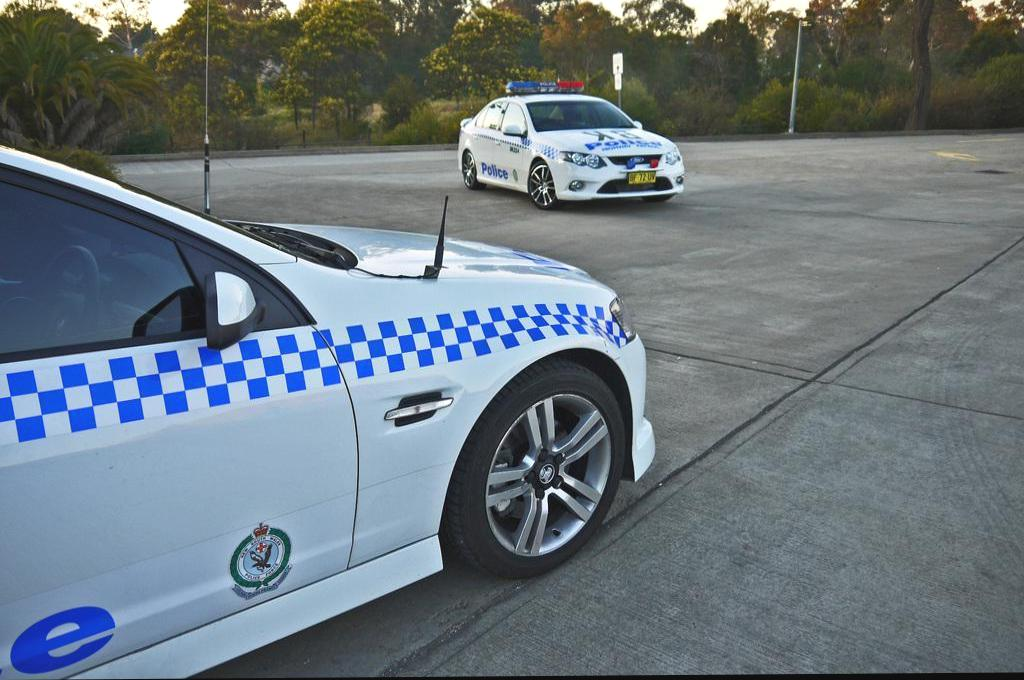License_Plate: (626, 170, 654, 185)
